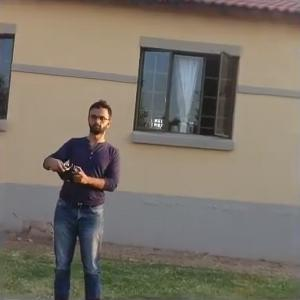follow: (37, 93, 123, 298)
null: (6, 208, 53, 244)
